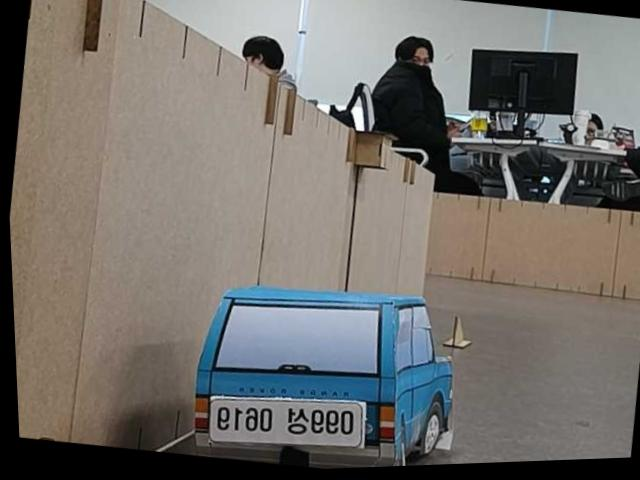car: (167, 254, 480, 474)
id: (200, 375, 374, 465)
